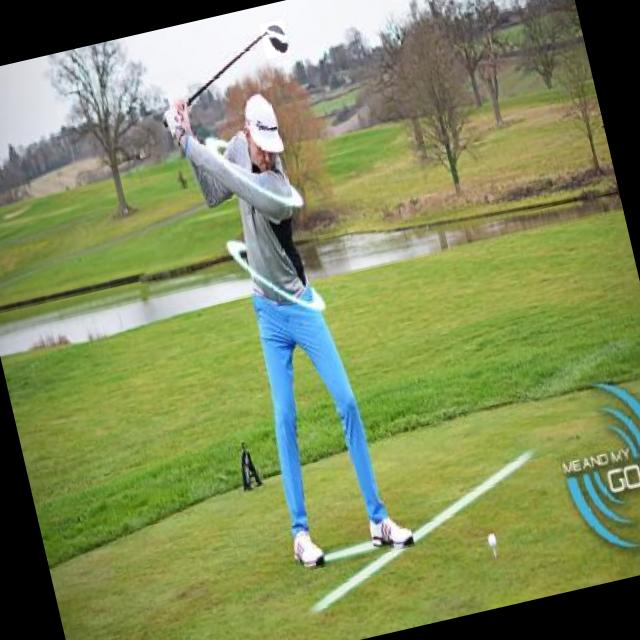club head: (259, 19, 290, 58)
